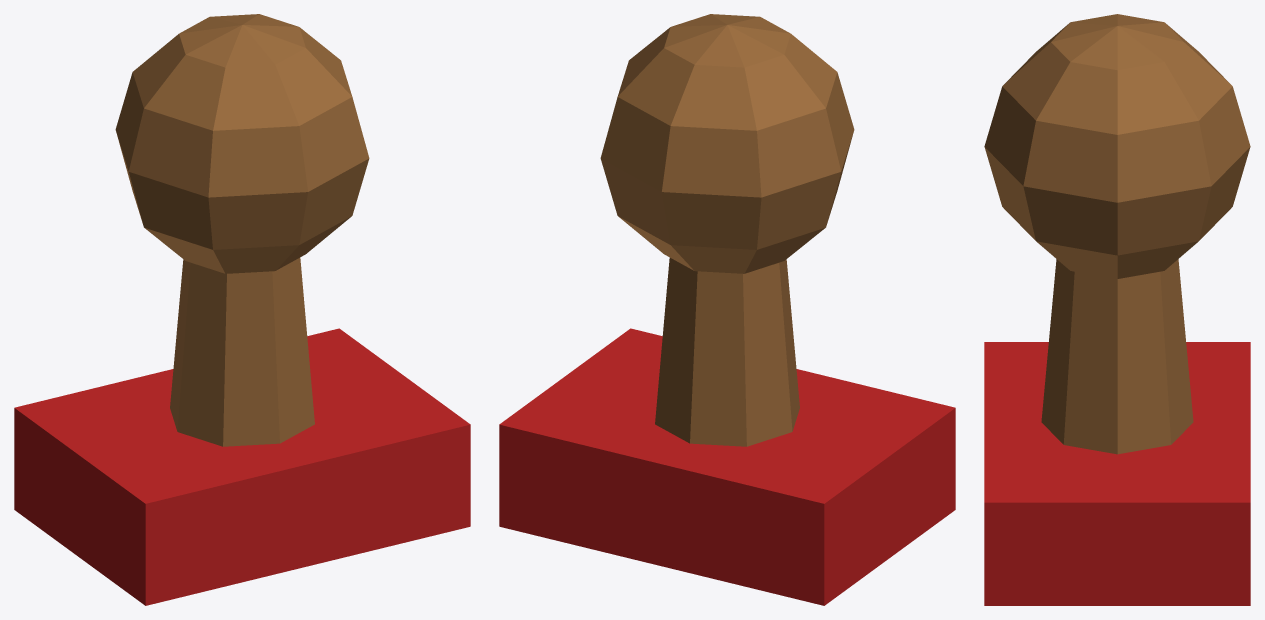
The model's file is sold_out_stamp.glb.
3 views of the same model, side by side, from view 1: azimuth 30°, elevation 25°; view 2: azimuth 150°, elevation 25°; view 3: azimuth 270°, elevation 25° (orthographic).
Visible parts, largest first — view 1: rubber_stamp_red, knob_stamp_wood, neck_stamp_wood; view 2: rubber_stamp_red, knob_stamp_wood, neck_stamp_wood; view 3: rubber_stamp_red, knob_stamp_wood, neck_stamp_wood.
Part boxes in pixels (x1,y1,x2,y2): rubber_stamp_red: (14, 328, 470, 605); knob_stamp_wood: (115, 14, 369, 273); neck_stamp_wood: (170, 257, 314, 446); rubber_stamp_red: (499, 328, 955, 605); knob_stamp_wood: (600, 14, 854, 273); neck_stamp_wood: (655, 257, 799, 446); rubber_stamp_red: (984, 342, 1250, 605); knob_stamp_wood: (984, 14, 1250, 278); neck_stamp_wood: (1041, 259, 1193, 454).
Bounding box in the file's own units: 0.1 × 0.145 × 0.07.
